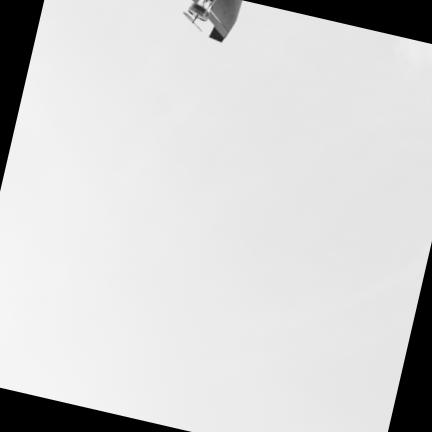Shahed: (181, 0, 243, 43)
